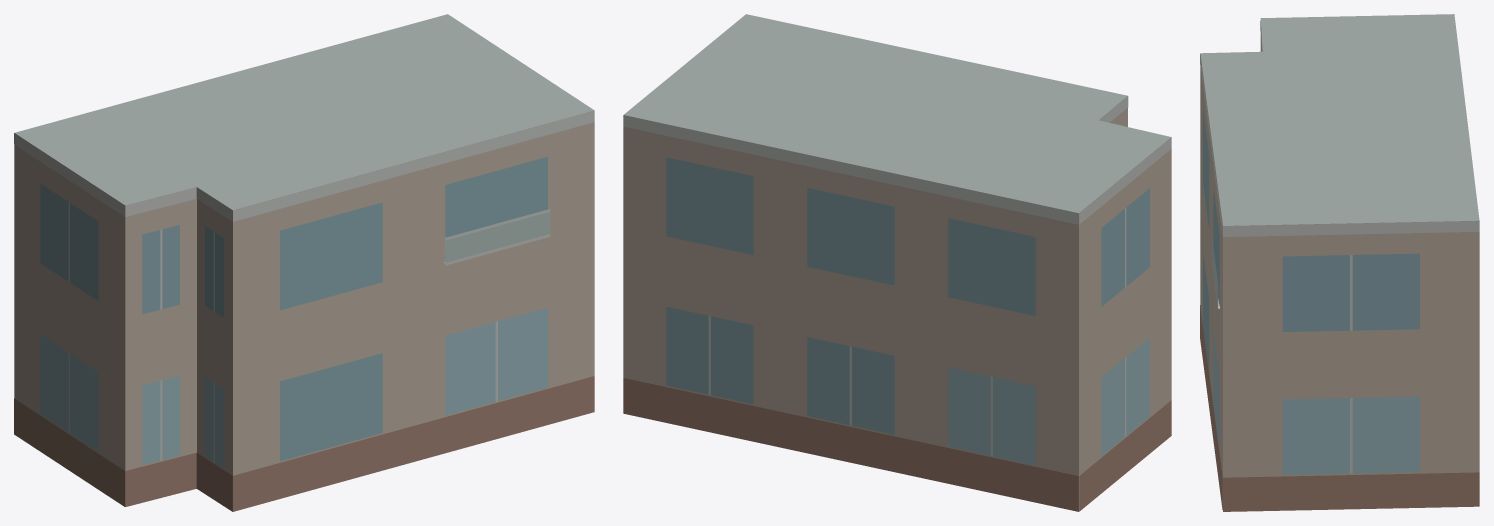
Rendered from survey-upis-32500120.glb.
3 renders of one model, left to right at view 1: azimuth 30°, elevation 25°; view 2: azimuth 150°, elevation 25°; view 3: azimuth 270°, elevation 25°, orthographic. The views are drawn at different scales.
Parts seen in each view (by area): view 1: survey-upis-32500120.tmp; view 2: survey-upis-32500120.tmp; view 3: survey-upis-32500120.tmp.
Boxes of the visible parts, x1=… form: survey-upis-32500120.tmp: x1=14, y1=14, x2=594, y2=511; survey-upis-32500120.tmp: x1=623, y1=14, x2=1171, y2=511; survey-upis-32500120.tmp: x1=1200, y1=14, x2=1479, y2=511.
Size of the model in its own units: 10.03 by 6.3 by 5.59.
